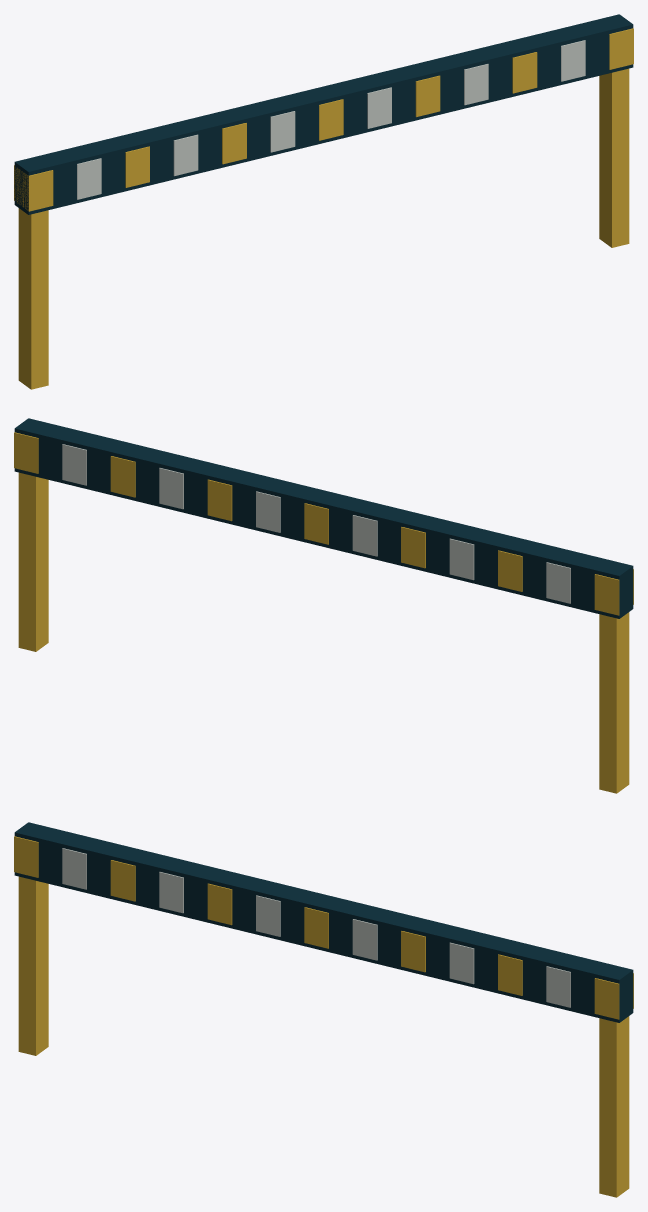
The model's file is finish.glb.
3 views of the same model, one above another, from view 1: azimuth 30°, elevation 25°; view 2: azimuth 150°, elevation 25°; view 3: azimuth 330°, elevation 25° (orthographic).
Parts seen in each view (by area): view 1: finish; view 2: finish; view 3: finish.
Boxes of the visible parts, x1,y1,x2,y2 form: finish: [14, 14, 633, 389]; finish: [14, 418, 633, 793]; finish: [14, 822, 633, 1197].
Bounding box in the file's own units: 12.5 × 4.32 × 0.54.
